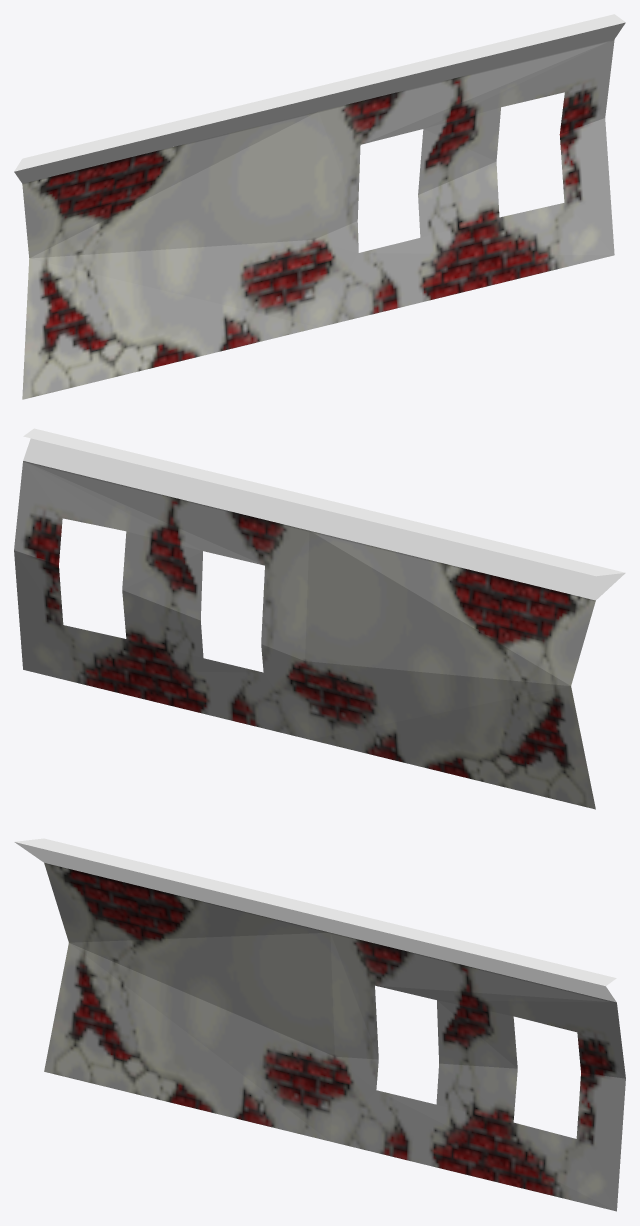
File: W_A2l_xxff_974.glb
The picture shows the model from 3 angles, top to bottom: view 1: azimuth 30°, elevation 25°; view 2: azimuth 150°, elevation 25°; view 3: azimuth 330°, elevation 25°; orthographic projection. The views are drawn at different scales.
Visible parts, largest first — view 1: polySurfaceShape853, polySurfaceShape1033; view 2: polySurfaceShape853, polySurfaceShape1033; view 3: polySurfaceShape853, polySurfaceShape1033.
Boxes of the visible parts, x1,y1,x2,y2 form: polySurfaceShape853: [22, 39, 614, 399]; polySurfaceShape1033: [14, 14, 625, 183]; polySurfaceShape853: [14, 461, 595, 809]; polySurfaceShape1033: [23, 428, 625, 600]; polySurfaceShape853: [44, 863, 625, 1211]; polySurfaceShape1033: [14, 838, 616, 1002].
Size of the model in its own units: 1.03 by 0.3891 by 0.0607.
2 materials, 1 textured.
